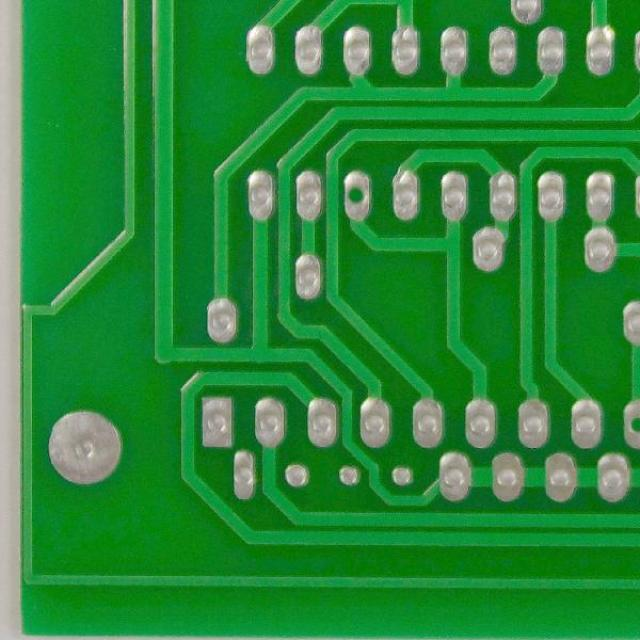Missing_Hole: (339, 167, 374, 222), (623, 394, 640, 454)
